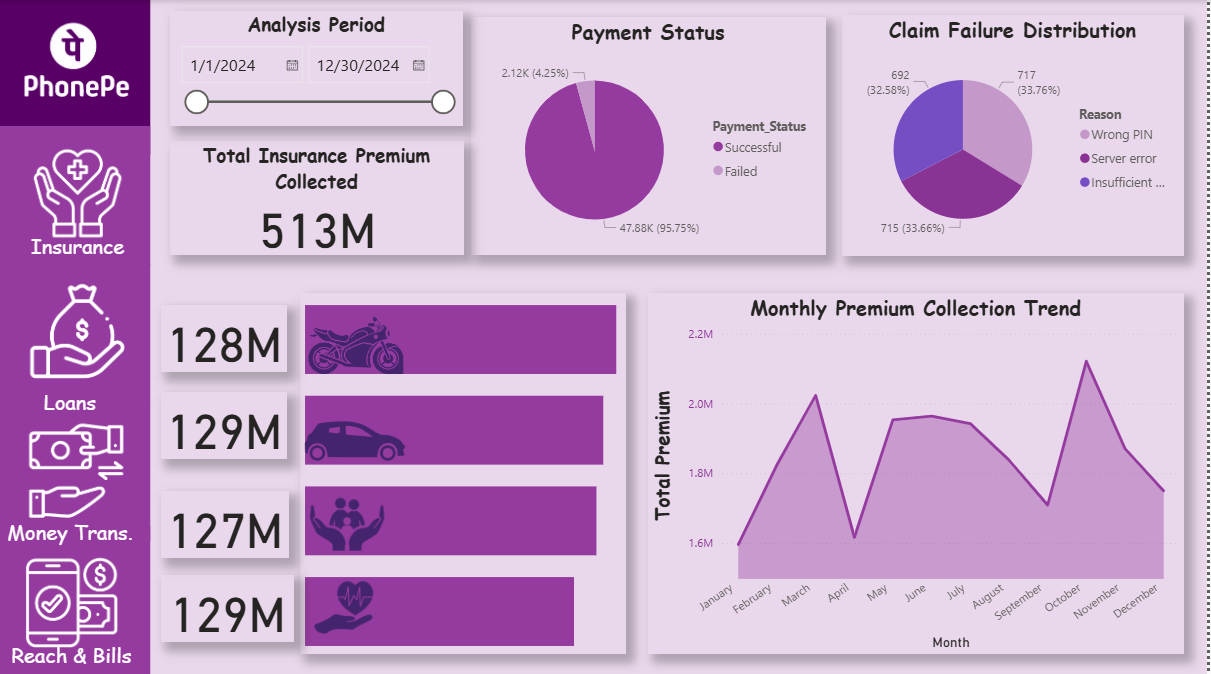

The page's visual inventory and layout, read from the dashboard file:
{"tool":"powerbi","page":{"name":"Insurance","canvas":[1280,720],"ordinal":2},"visuals":[{"type":"shape","box":[0,0,159.4,164.1],"z":0},{"type":"shape","box":[0,132.9,159.4,146.9],"z":1000},{"type":"shape","box":[0,279.8,159.4,146.9],"z":2000},{"type":"shape","box":[0,558,159.4,162.6],"z":3000},{"type":"shape","box":[0,426.7,159.4,146.9],"z":4000},{"type":"image","box":[12.5,10.9,136,111],"z":5000},{"type":"image","box":[14.1,150,136,111],"z":6000},{"type":"image","box":[15.6,293.8,136,111],"z":7000},{"type":"image","box":[7.8,583,136,111],"z":8000},{"type":"image","box":[12.5,443.9,136,111],"z":9000},{"type":"textbox","box":[7.8,240.7,148.5,39.1],"z":10000},{"type":"textbox","box":[0,404.8,148.5,39.1],"z":11000},{"type":"textbox","box":[0,543.9,148.5,39.1],"z":12000},{"type":"textbox","box":[1.6,673.6,148.5,39.1],"z":13000},{"type":"slicer","title":"Analysis Period","fields":{"Values":["All_Transactions.Date"]},"box":[179.7,10.9,311,121.9],"z":14000},{"type":"card","title":"Total Insurance Premium Collected","fields":{"Values":["Sum(Insurance.Premium)"]},"box":[179.7,149.5,311.8,120.9],"z":15000},{"type":"pieChart","title":"Claim Failure Distribution","fields":{"Category":["Insurance.Reason"],"Y":["CountNonNull(Insurance.Reason)"]},"box":[892,15.1,362.8,255.1],"z":16000},{"type":"actionButton","box":[3.2,445.4,149.5,130.4],"z":17000},{"type":"areaChart","title":"Monthly Premium Collection Trend","fields":{"Category":["Insurance.Date.Variation.Date Hierarchy.Month"],"Y":["Sum(Insurance.Premium)"]},"box":[687.1,310.2,567.8,383.3],"z":18000},{"type":"actionButton","box":[1.6,291.1,151.1,152.7],"z":19000},{"type":"actionButton","box":[1.6,574.2,149.5,140],"z":20000},{"type":"actionButton","box":[6.4,8,149.5,122.5],"z":21000},{"type":"pieChart","title":"Payment Status","fields":{"Category":["Insurance.Payment_Status"],"Y":["CountNonNull(Insurance.Payment_Status)"]},"box":[498.9,17,376.1,253.2],"z":22000},{"type":"clusteredBarChart","fields":{"Y":["Sum(Insurance.Premium)"],"Category":["Insurance.Insurance_Type"]},"box":[318.1,310.2,345.2,383.3],"z":23000},{"type":"image","box":[298.6,328.8,156.9,73.7],"z":24000},{"type":"image","box":[281.6,425.2,192.8,83.2],"z":25000},{"type":"image","box":[279.7,527.2,175.7,58.6],"z":26000},{"type":"image","box":[304.3,616.1,120.9,56.7],"z":27000},{"type":"card","fields":{"Values":["Sum(Insurance.Premium)"]},"box":[170.1,323.2,134.2,71.8],"z":28000},{"type":"card","fields":{"Values":["Sum(Insurance.Premium)"]},"box":[170.1,519.7,136.1,71.8],"z":29000},{"type":"card","fields":{"Values":["Sum(Insurance.Premium)"]},"box":[170.1,415.8,134.2,71.8],"z":30000},{"type":"card","fields":{"Values":["Sum(Insurance.Premium)"]},"box":[170.1,608.5,141.7,71.8],"z":31000}]}

Visuals, with their boxes in screenshot pixels (x1, y1, x2, y2), scaled from the page's 1280x720 canvas onto the 1211x674 screenshot:
shape: box=[0, 0, 151, 154]
shape: box=[0, 124, 151, 262]
shape: box=[0, 262, 151, 399]
shape: box=[0, 522, 151, 673]
shape: box=[0, 399, 151, 537]
image: box=[12, 10, 140, 114]
image: box=[13, 140, 142, 244]
image: box=[15, 275, 143, 379]
image: box=[7, 546, 136, 650]
image: box=[12, 416, 140, 519]
textbox: box=[7, 225, 148, 262]
textbox: box=[0, 379, 140, 416]
textbox: box=[0, 509, 140, 546]
textbox: box=[2, 631, 142, 667]
"Analysis Period" slicer: box=[170, 10, 464, 124]
"Total Insurance Premium Collected" card: box=[170, 140, 465, 253]
"Claim Failure Distribution" pieChart: box=[844, 14, 1187, 253]
actionButton: box=[3, 417, 144, 539]
"Monthly Premium Collection Trend" areaChart: box=[650, 290, 1187, 649]
actionButton: box=[2, 273, 144, 415]
actionButton: box=[2, 538, 143, 669]
actionButton: box=[6, 7, 147, 122]
"Payment Status" pieChart: box=[472, 16, 828, 253]
clusteredBarChart - Sum(Insurance.Premium) x Insurance.Insurance_Type: box=[301, 290, 628, 649]
image: box=[283, 308, 431, 377]
image: box=[266, 398, 449, 476]
image: box=[265, 494, 431, 548]
image: box=[288, 577, 402, 630]
card - Sum(Insurance.Premium): box=[161, 303, 288, 370]
card - Sum(Insurance.Premium): box=[161, 486, 290, 554]
card - Sum(Insurance.Premium): box=[161, 389, 288, 456]
card - Sum(Insurance.Premium): box=[161, 570, 295, 637]
